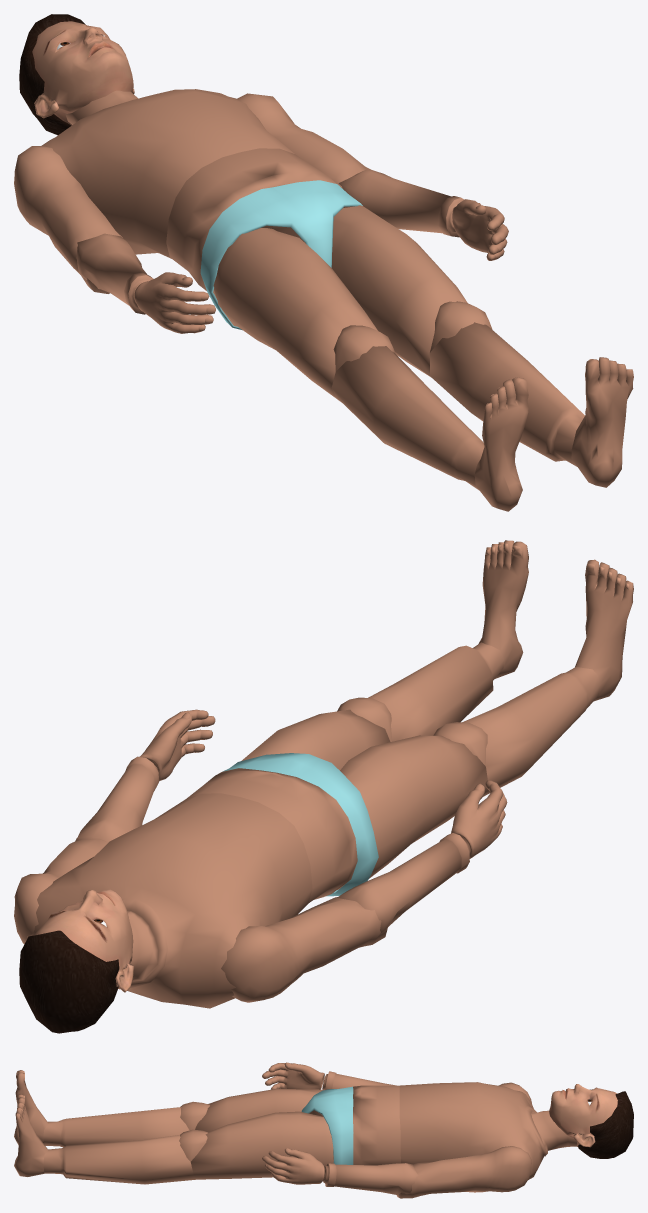
Rendered from maneken.fbx.
3 renders of one model, top to bottom at view 1: azimuth 30°, elevation 25°; view 2: azimuth 150°, elevation 25°; view 3: azimuth 270°, elevation 25°, orthographic. The views are drawn at different scales.
Parts seen in each view (by area): view 1: Object_9.001; view 2: Object_9.001; view 3: Object_9.001.
Part boxes in pixels (box(x1,y1,x2,y2)): Object_9.001: box(14, 14, 633, 511); Object_9.001: box(14, 540, 633, 1033); Object_9.001: box(14, 1062, 633, 1198).
Bounding box in the file's own units: 77.22 × 32.01 × 202.
Materials: 8 (6 with a texture image).
